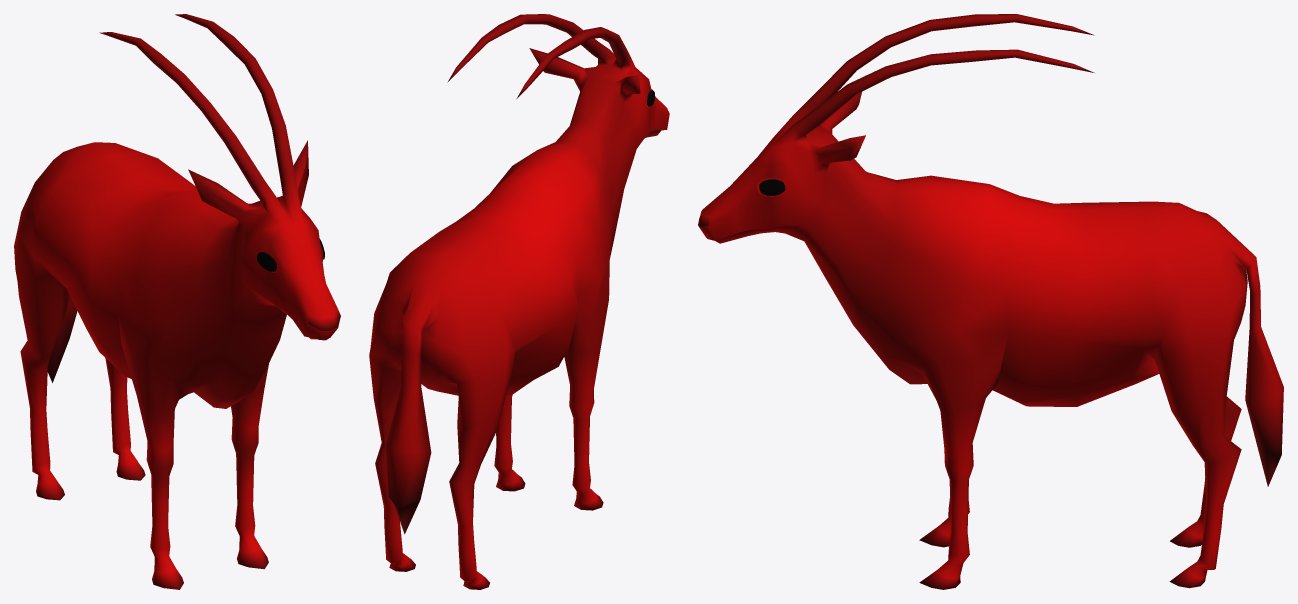
File: Animals_Oryx.fbx
3 renders of one model, left to right at view 1: azimuth 30°, elevation 25°; view 2: azimuth 150°, elevation 25°; view 3: azimuth 270°, elevation 25°, orthographic. The views are drawn at different scales.
Parts seen in each view (by area): view 1: base; view 2: base; view 3: base.
Boxes of the visible parts, left/top/right/bottom form: base: left=14, top=14, right=340, bottom=589; base: left=369, top=14, right=669, bottom=589; base: left=698, top=14, right=1283, bottom=589.
Size of the model in its own units: 57.07 by 178 by 179.
